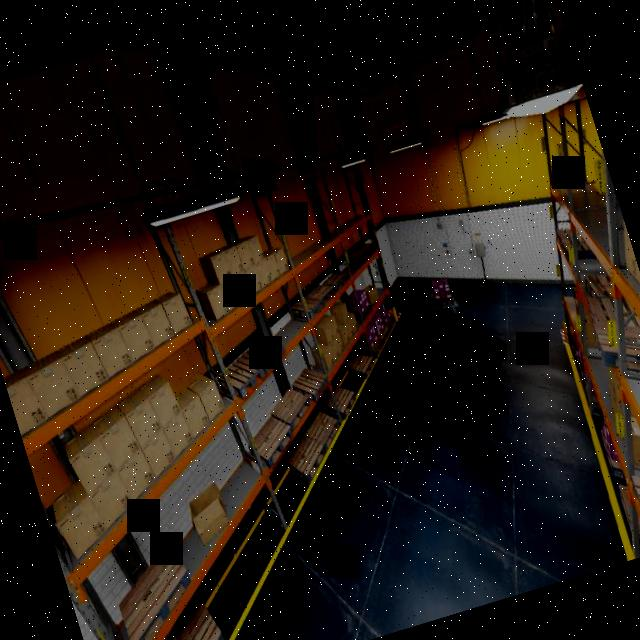box: (180, 482, 236, 544), (52, 489, 103, 548), (25, 362, 80, 413), (62, 430, 113, 485), (91, 409, 140, 465), (80, 471, 131, 524), (110, 452, 157, 496), (62, 347, 107, 391), (124, 397, 167, 443), (91, 330, 133, 376), (117, 316, 154, 358), (140, 435, 179, 474), (196, 280, 229, 320), (161, 295, 193, 334), (142, 308, 175, 345), (149, 388, 182, 424), (200, 250, 233, 285), (161, 421, 193, 454), (198, 386, 226, 418), (220, 244, 244, 278), (182, 403, 210, 432), (220, 280, 243, 310), (236, 241, 257, 273), (312, 342, 334, 371), (233, 273, 254, 302), (315, 319, 335, 344), (247, 237, 266, 263), (256, 262, 274, 288), (265, 254, 282, 280), (246, 269, 264, 293), (364, 282, 381, 305), (331, 303, 350, 323), (275, 250, 290, 274), (327, 314, 340, 335), (328, 342, 342, 361), (338, 322, 350, 343), (333, 332, 346, 351), (349, 311, 361, 331), (345, 320, 355, 335)
